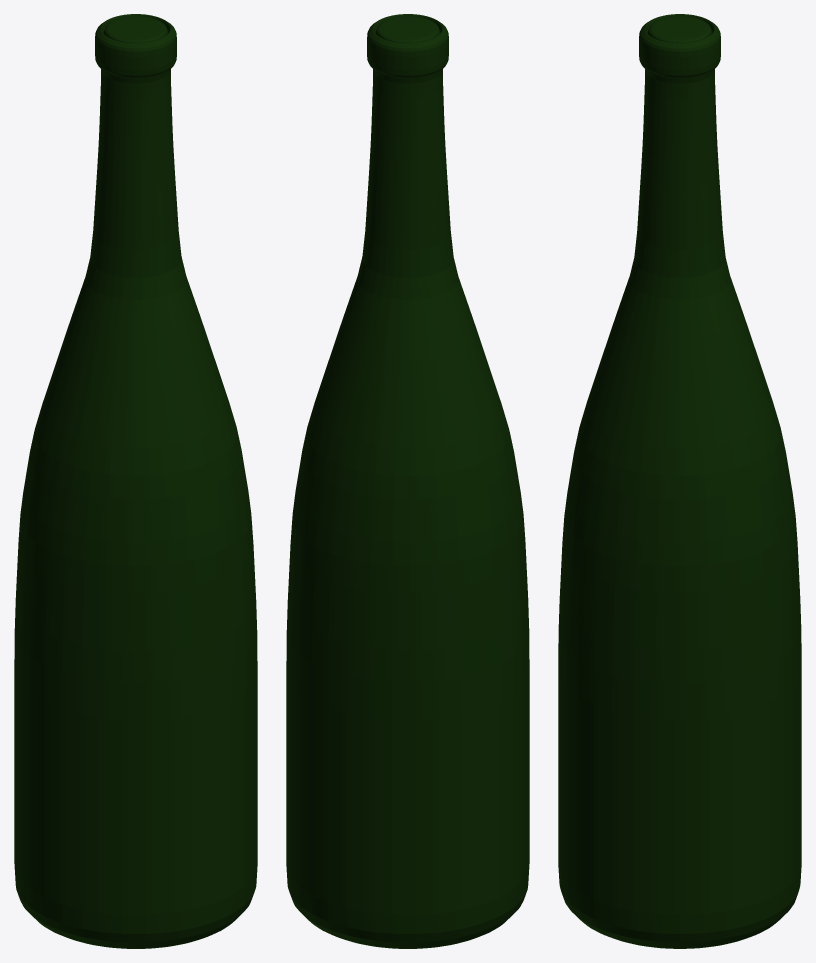
File: bottle_wine_ultra.obj
3 views of the same model, side by side, from view 1: azimuth 30°, elevation 25°; view 2: azimuth 150°, elevation 25°; view 3: azimuth 270°, elevation 25° (orthographic).
Visible parts, largest first — view 1: wine_bottle_Circle.001; view 2: wine_bottle_Circle.001; view 3: wine_bottle_Circle.001.
Part boxes in pixels (x1,y1,x2,y2): wine_bottle_Circle.001: (14, 14, 257, 948); wine_bottle_Circle.001: (286, 14, 529, 948); wine_bottle_Circle.001: (558, 14, 801, 948).
Size of the model in its own units: 2.85 by 11.34 by 2.85.
